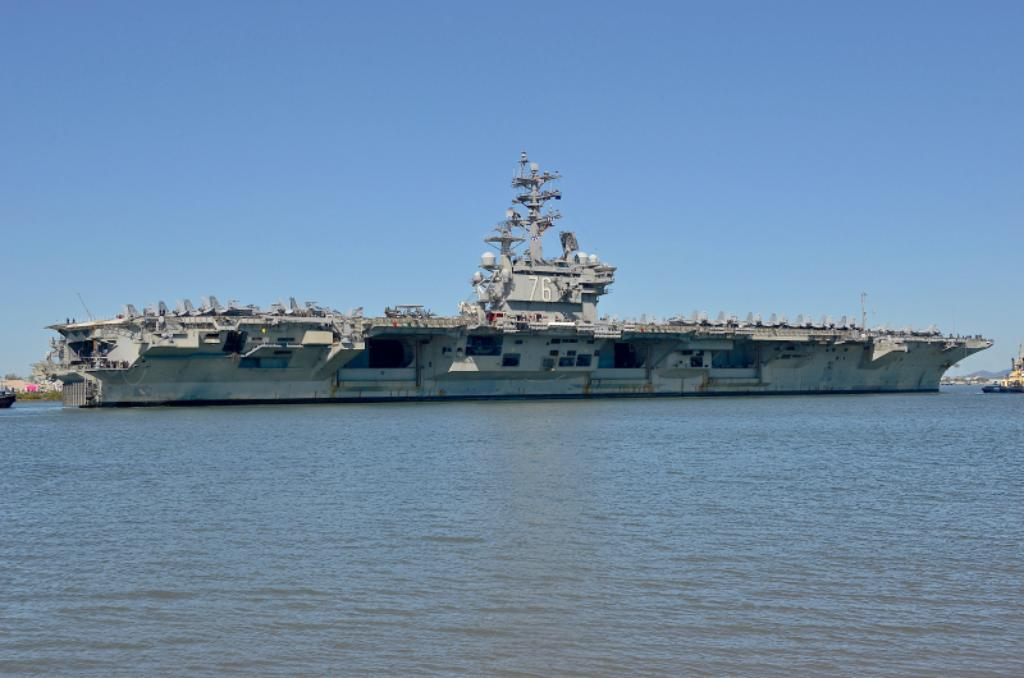Warship: (46, 144, 996, 416)
